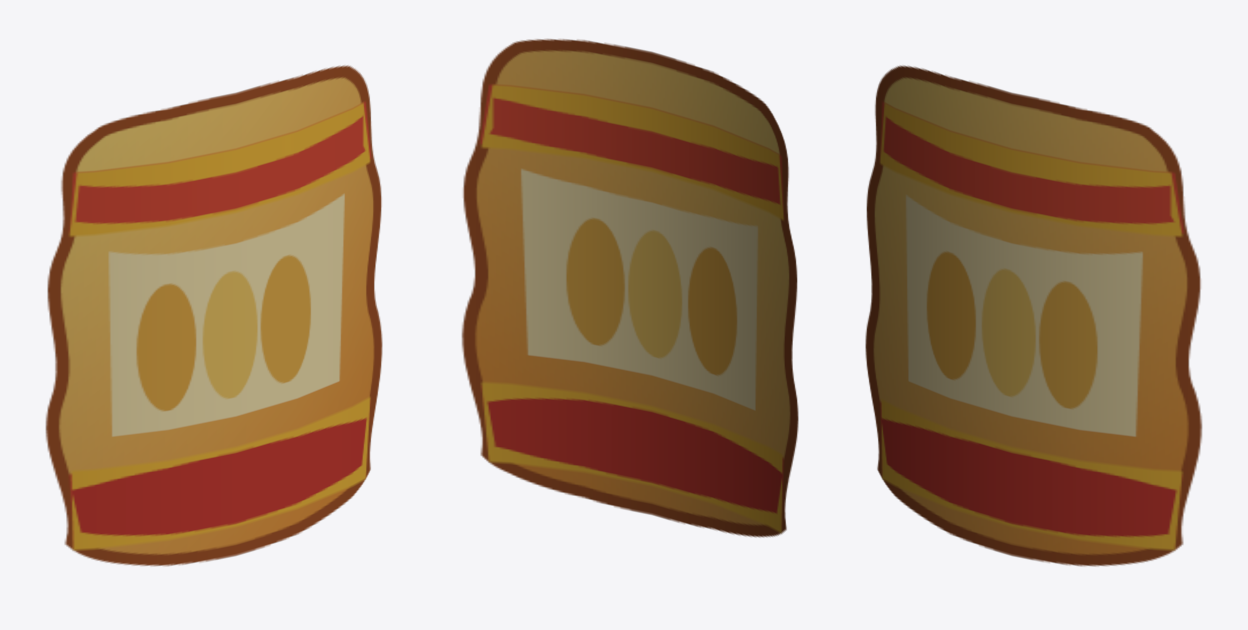
The model's file is bolsa_papas_curva.glb.
3 renders of one model, left to right at view 1: azimuth 30°, elevation 25°; view 2: azimuth 150°, elevation 25°; view 3: azimuth 330°, elevation 25°, orthographic.
Bounding box in the file's own units: 0.2 × 0.25 × 0.025.
1 material, 1 textured.
